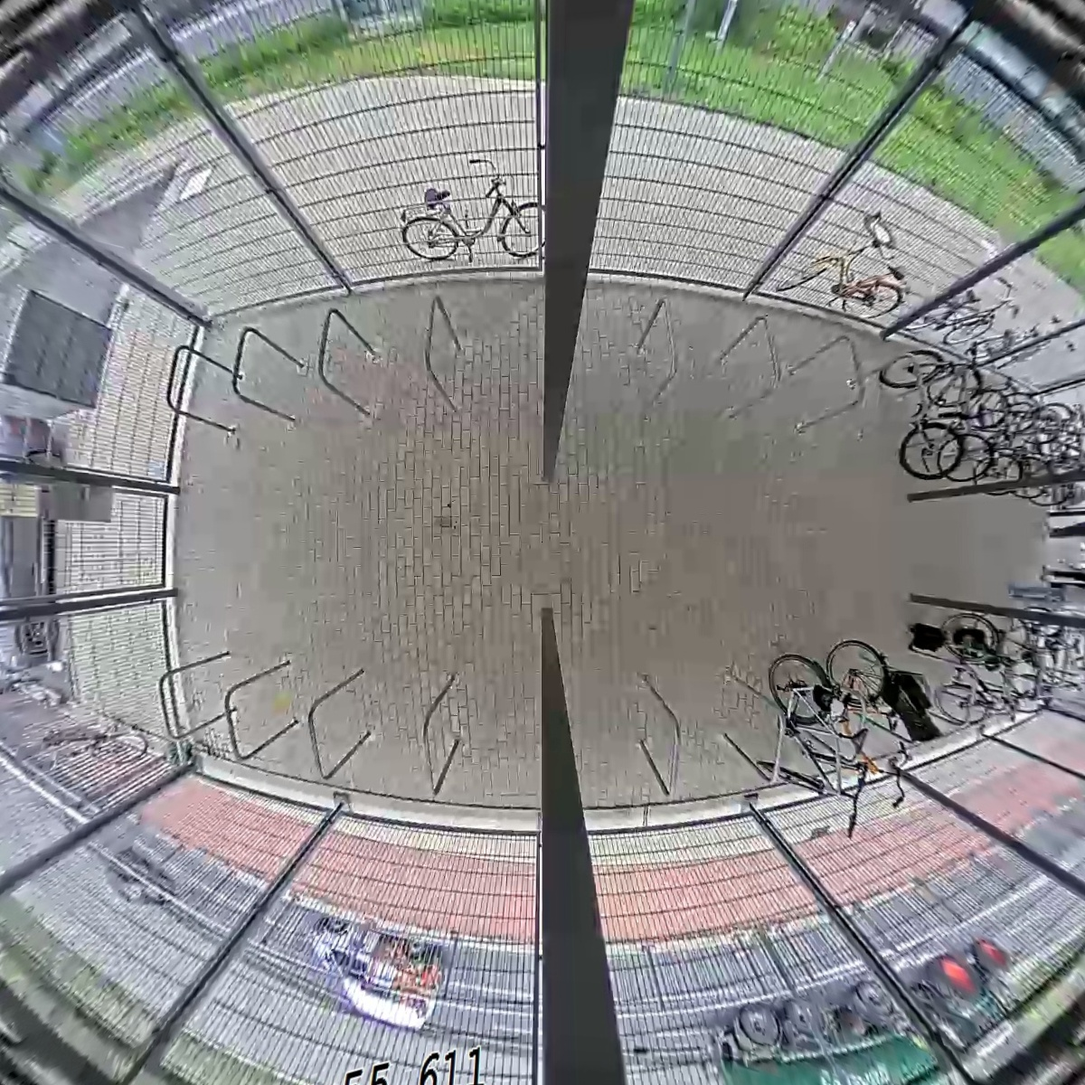bicylce: (873, 337, 982, 476), (754, 654, 849, 797), (810, 640, 890, 791), (926, 608, 1011, 729), (927, 359, 1000, 485), (969, 599, 1028, 723), (959, 382, 1023, 493), (993, 388, 1055, 501)
saddle: (881, 708, 903, 737), (846, 727, 867, 754), (973, 398, 989, 428), (1045, 643, 1063, 666), (1026, 648, 1041, 670), (1070, 634, 1082, 659), (1002, 419, 1013, 441)
